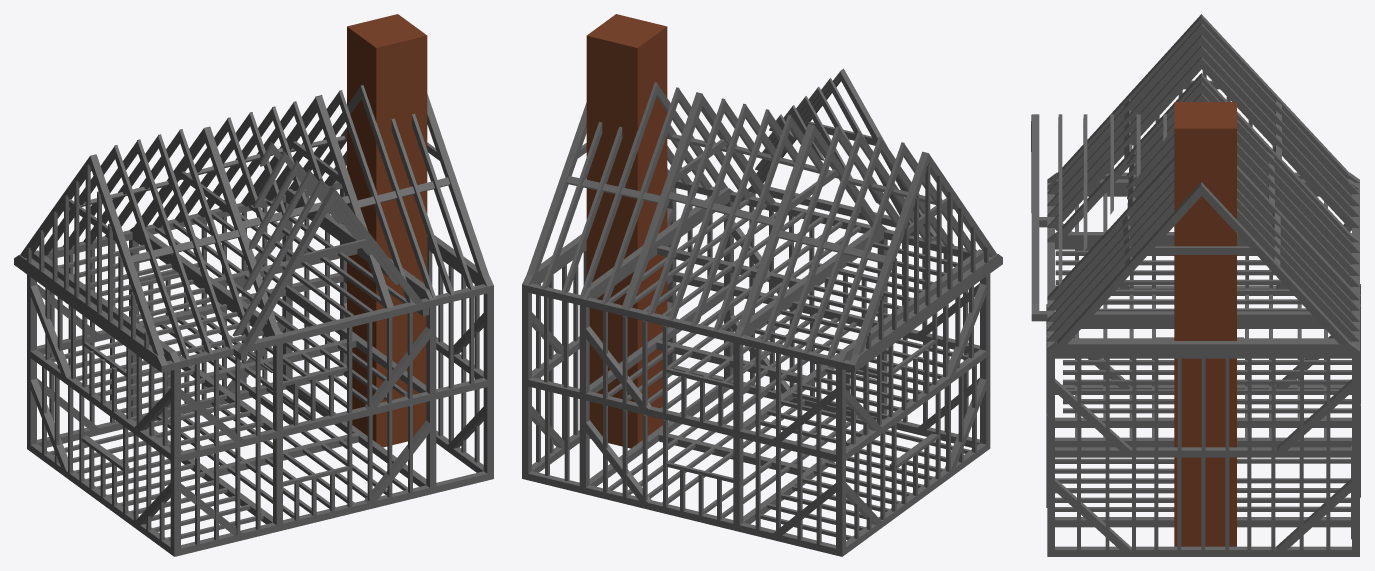
The model's file is capen-house-17.glb.
3 views of the same model, side by side, from view 1: azimuth 30°, elevation 25°; view 2: azimuth 150°, elevation 25°; view 3: azimuth 270°, elevation 25° (orthographic). The views are drawn at different scales.
Parts seen in each view (by area): view 1: Cube.094, N Sill.009, Cube.023, N Sill.012, Cube.042, Cube.025, N Sill.010, Cube.021, Cube.019, N Sill.014, Cube.043, N Sill.015 (+60 smaller); view 2: Cube.094, N Sill.003, N Sill.001, Cube.024, Cube.022, Cube.020, N Sill.007, N Sill.006, N Sill.004, N Sill.002, Cube.018, Cube.069 (+57 smaller); view 3: Cube.094, Cube.017, Cube.007, Cube.003, Cube.011, Cube.018, Cube.019, Cube.073, Cube.006, Cube, Cube.002, Cube.079 (+89 smaller).
Boxes of the visible parts, x1,y1,x2,y2 form: Cube.094: (347,14,427,447); N Sill.009: (170,471,493,556); Cube.023: (90,154,164,355); N Sill.012: (170,368,180,550); Cube.042: (237,302,428,353); Cube.025: (315,95,393,308); N Sill.010: (483,292,493,473); Cube.021: (203,126,278,327); Cube.019: (427,94,488,276); N Sill.014: (426,306,436,487); Cube.043: (243,186,335,345); N Sill.015: (273,344,282,525); Cube.094: (586,14,667,448); N Sill.003: (522,283,858,372); N Sill.001: (522,471,845,556); Cube.024: (621,92,702,309); Cube.022: (852,151,928,355); Cube.020: (738,124,814,327); N Sill.007: (733,343,743,525); N Sill.006: (579,305,589,487); N Sill.004: (836,368,845,549); N Sill.002: (522,291,531,473); Cube.018: (527,102,586,275); Cube.069: (713,114,791,331); Cube.094: (1174,102,1236,546); Cube.017: (1047,341,1359,351); Cube.007: (1055,447,1351,457); Cube.003: (1055,546,1351,556); Cube.011: (1055,351,1351,358); Cube.018: (1201,182,1349,344); Cube.019: (1057,182,1201,344); Cube.073: (1201,56,1359,228); Cube.006: (1055,417,1351,427); Cube: (1055,437,1351,447); Cube.002: (1055,517,1350,527); Cube.079: (1201,22,1359,194).
Bounding box in the file's own units: 7.94 × 9.14 × 6.43.
